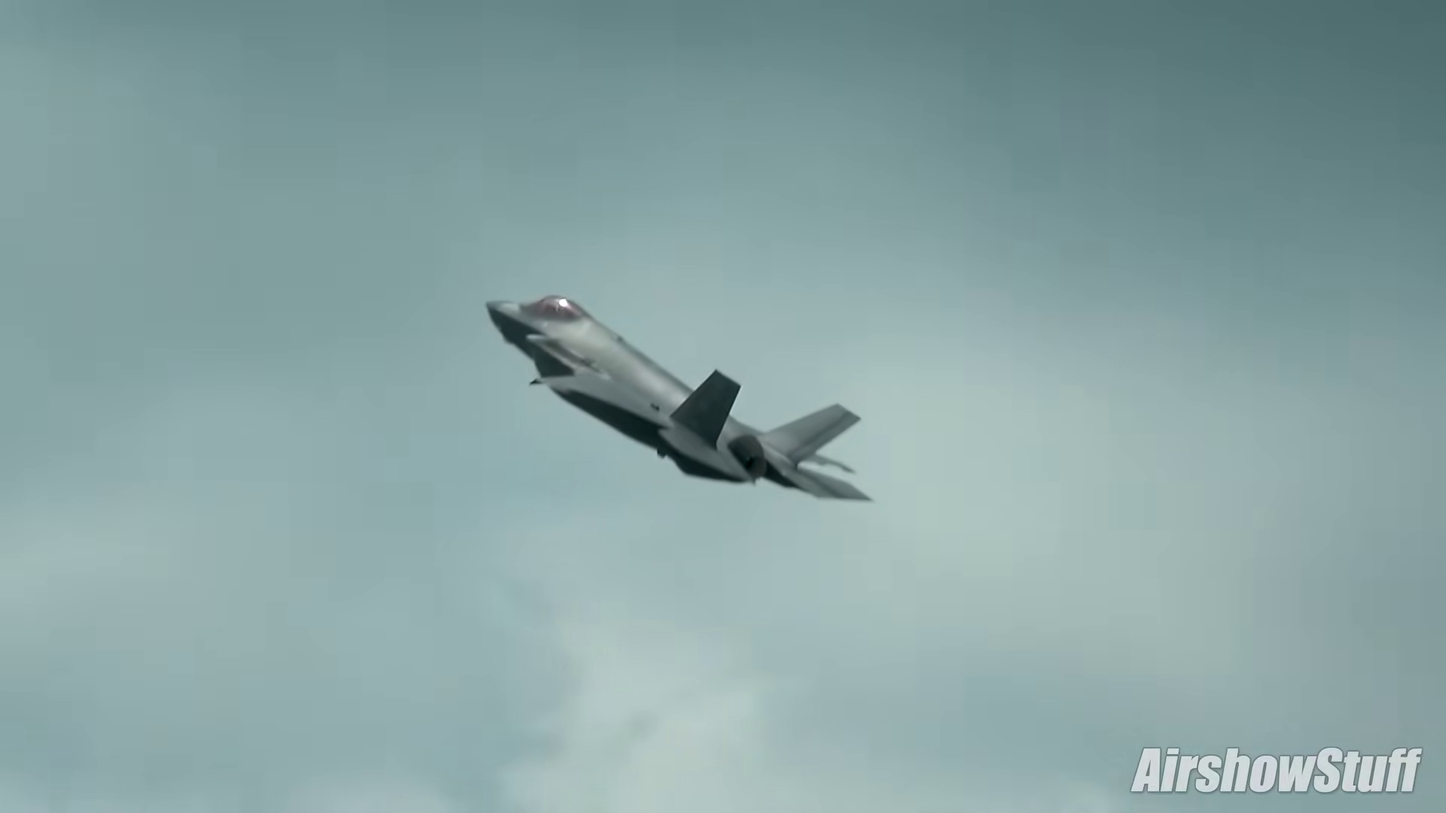F35: (486, 290, 877, 508)
